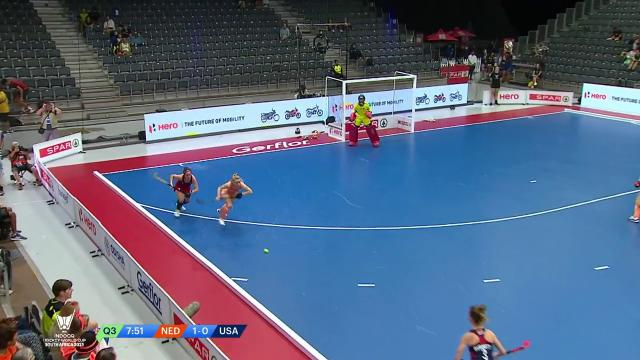ball: (262, 245, 272, 257)
